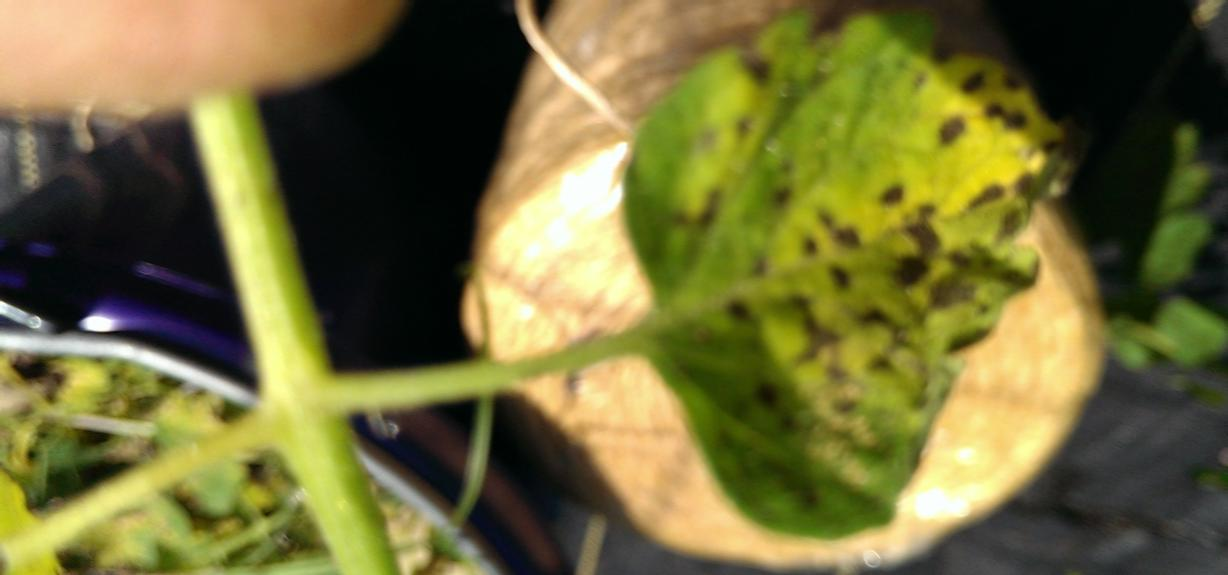Tomato Septoria leaf spot: (585, 0, 1093, 550)
